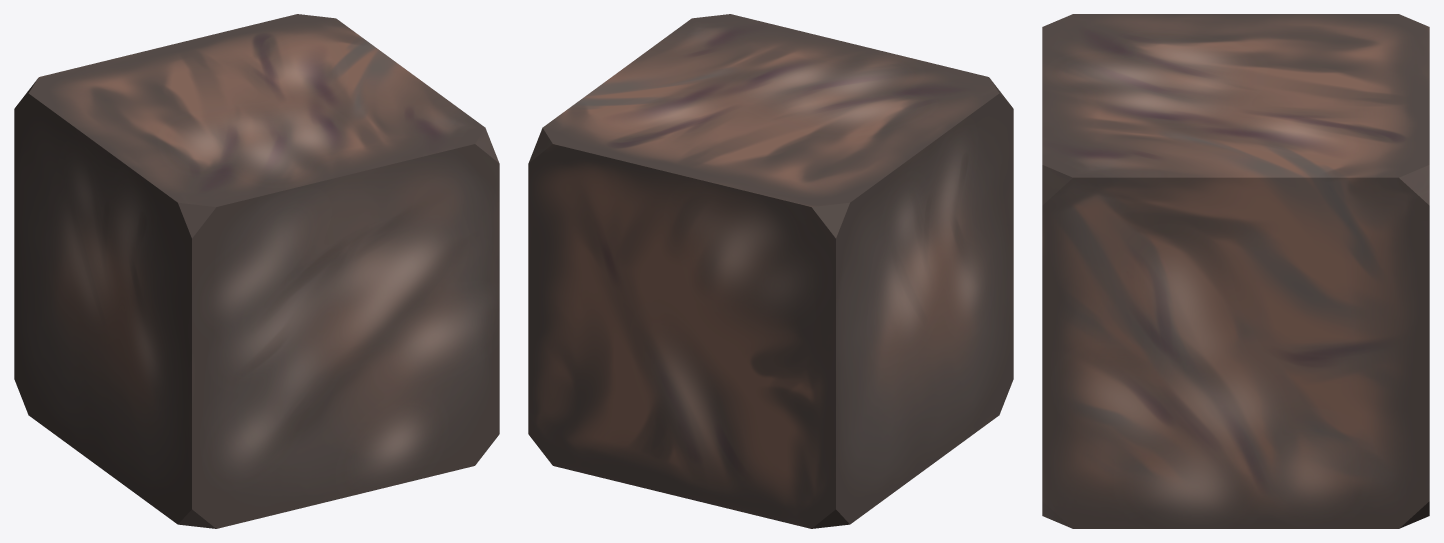
File: BasicWall.fbx
3 views of the same model, side by side, from view 1: azimuth 30°, elevation 25°; view 2: azimuth 150°, elevation 25°; view 3: azimuth 270°, elevation 25° (orthographic). The views are drawn at different scales.
Parts seen in each view (by area): view 1: BasicWall LowP; view 2: BasicWall LowP; view 3: BasicWall LowP.
Part boxes in pixels (bbox=[...]): BasicWall LowP: bbox=[14, 14, 499, 528]; BasicWall LowP: bbox=[528, 14, 1013, 528]; BasicWall LowP: bbox=[1042, 14, 1429, 528].
Bounding box in the file's own units: 100 × 100 × 100.
